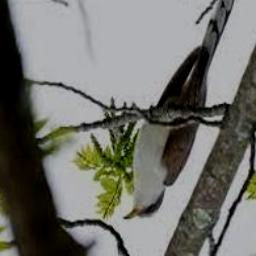Cuckoo: (121, 0, 234, 221)
